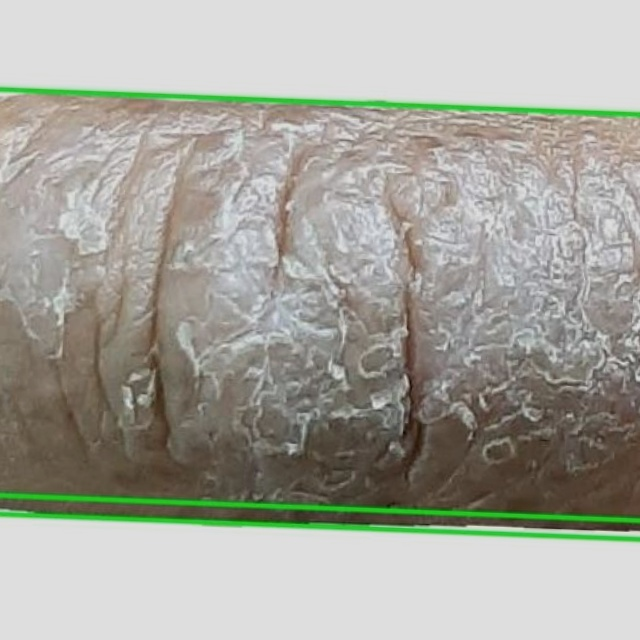Eczema: (0, 89, 639, 539)
